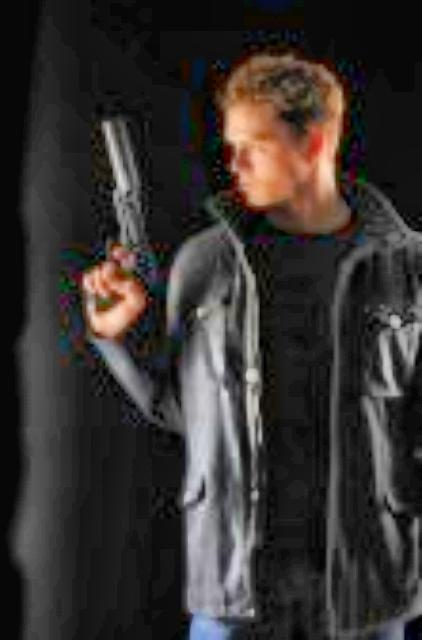pistol: (66, 106, 152, 320)
